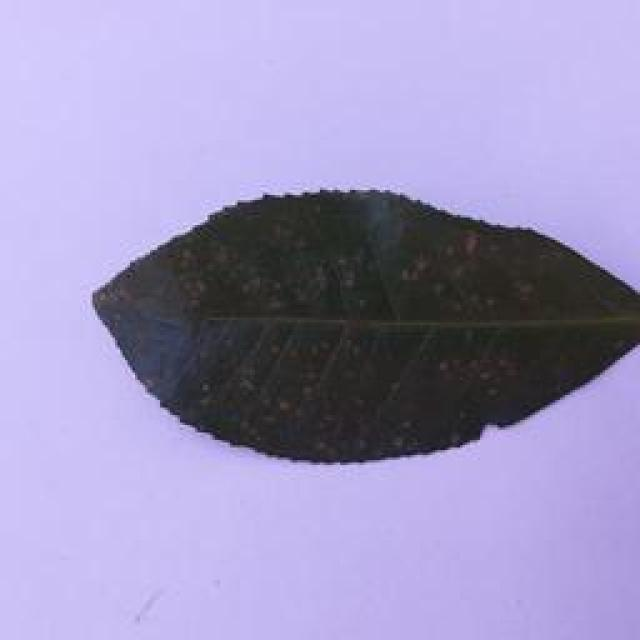Algal Leaf Spot: (85, 168, 640, 472)
